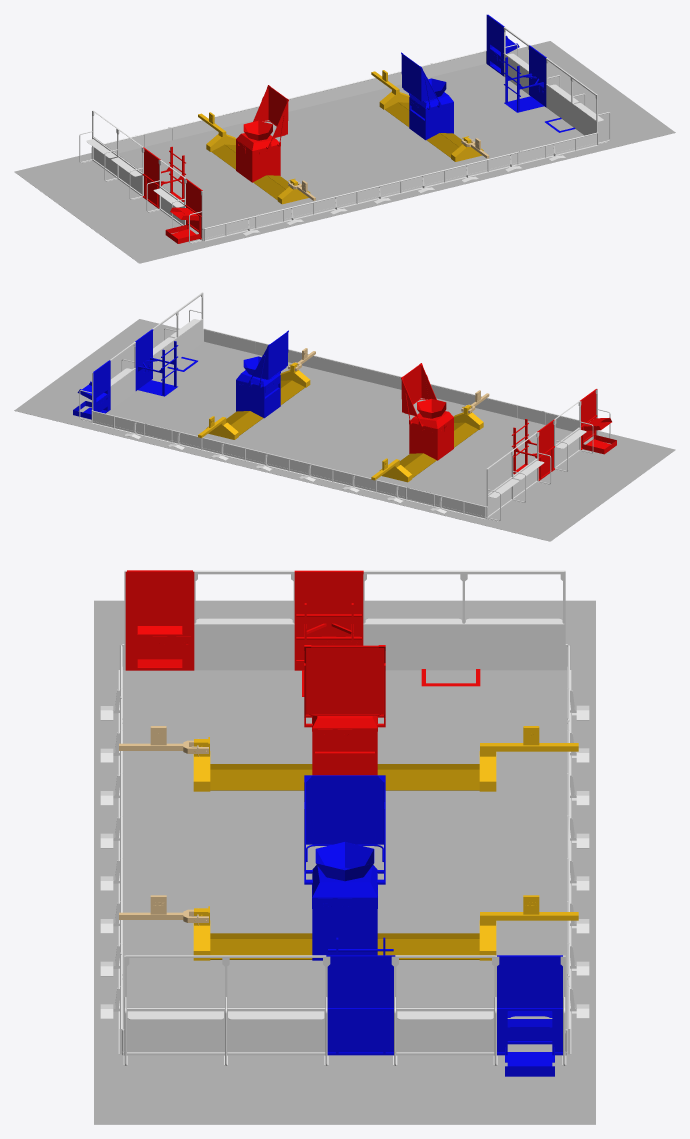
The model's file is field-2026.fbx.
3 renders of one model, top to bottom at view 1: azimuth 30°, elevation 25°; view 2: azimuth 150°, elevation 25°; view 3: azimuth 270°, elevation 25°, orthographic. The views are drawn at different scales.
Parts seen in each view (by area): view 1: BLOCK CAD: CARPET, BLOCK CAD: SIDE WALL, AUDIENCE, BLOCK CAD: SIDE WALL, SCORING TABLE, BLOCK CAD: HUB, RED, BLOCK CAD: HUB, BLUE, BLOCK CAD: ALLIANCE STATION, BLUE 1 & 2, BLOCK CAD: ALLIANCE STATION, RED 1 & 2, BLOCK CAD: TOWER, BLUE, BLOCK CAD: OUTPOST, RED, BLOCK CAD: TOWER, RED, BLOCK CAD: OUTPOST, BLUE, BLOCK CAD: ALLIANCE STATION, RED 3 (+8 smaller); view 2: BLOCK CAD: CARPET, BLOCK CAD: SIDE WALL, SCORING TABLE, BLOCK CAD: SIDE WALL, AUDIENCE, BLOCK CAD: HUB, RED, BLOCK CAD: HUB, BLUE, BLOCK CAD: ALLIANCE STATION, RED 1 & 2, BLOCK CAD: ALLIANCE STATION, BLUE 1 & 2, BLOCK CAD: TOWER, BLUE, BLOCK CAD: OUTPOST, RED, BLOCK CAD: TOWER, RED, BLOCK CAD: OUTPOST, BLUE, BLOCK CAD: ALLIANCE STATION, RED 3 (+7 smaller); view 3: BLOCK CAD: CARPET, BLOCK CAD: HUB, BLUE, BLOCK CAD: ALLIANCE STATION, RED 1 & 2, BLOCK CAD: ALLIANCE STATION, BLUE 1 & 2, BLOCK CAD: HUB, RED, BLOCK CAD: OUTPOST, BLUE, BLOCK CAD: OUTPOST, RED, BLOCK CAD: TOWER, BLUE, BLOCK CAD: ALLIANCE STATION, RED 3, BLOCK CAD: ALLIANCE STATION, BLUE 3, BLOCK CAD: TOWER, RED, BLOCK CAD: SIDE WALL, AUDIENCE (+10 smaller).
Part boxes in pixels (x1,y1,x2,y2): BLOCK CAD: CARPET: [14, 41, 675, 263]; BLOCK CAD: SIDE WALL, AUDIENCE: [202, 132, 598, 241]; BLOCK CAD: SIDE WALL, SCORING TABLE: [91, 50, 486, 157]; BLOCK CAD: HUB, RED: [236, 85, 288, 182]; BLOCK CAD: HUB, BLUE: [401, 52, 453, 140]; BLOCK CAD: ALLIANCE STATION, BLUE 1 & 2: [546, 58, 610, 144]; BLOCK CAD: ALLIANCE STATION, RED 1 & 2: [79, 110, 144, 199]; BLOCK CAD: TOWER, BLUE: [504, 45, 546, 112]; BLOCK CAD: OUTPOST, RED: [165, 178, 202, 243]; BLOCK CAD: TOWER, RED: [142, 146, 185, 208]; BLOCK CAD: OUTPOST, BLUE: [486, 14, 519, 76]; BLOCK CAD: ALLIANCE STATION, RED 3: [146, 160, 186, 228]; BLOCK CAD: CARPET: [14, 319, 675, 541]; BLOCK CAD: SIDE WALL, SCORING TABLE: [91, 410, 487, 519]; BLOCK CAD: SIDE WALL, AUDIENCE: [203, 328, 598, 436]; BLOCK CAD: HUB, RED: [401, 363, 453, 460]; BLOCK CAD: HUB, BLUE: [236, 330, 288, 418]; BLOCK CAD: ALLIANCE STATION, RED 1 & 2: [486, 432, 551, 521]; BLOCK CAD: ALLIANCE STATION, BLUE 1 & 2: [151, 292, 203, 378]; BLOCK CAD: TOWER, BLUE: [135, 329, 178, 396]; BLOCK CAD: OUTPOST, RED: [580, 389, 616, 454]; BLOCK CAD: TOWER, RED: [511, 419, 554, 480]; BLOCK CAD: OUTPOST, BLUE: [73, 360, 110, 419]; BLOCK CAD: ALLIANCE STATION, RED 3: [553, 401, 593, 471]; BLOCK CAD: CARPET: [94, 600, 595, 1124]; BLOCK CAD: HUB, BLUE: [304, 775, 385, 960]; BLOCK CAD: ALLIANCE STATION, RED 1 & 2: [363, 570, 567, 670]; BLOCK CAD: ALLIANCE STATION, BLUE 1 & 2: [122, 955, 330, 1065]; BLOCK CAD: HUB, RED: [304, 645, 385, 775]; BLOCK CAD: OUTPOST, BLUE: [497, 955, 562, 1076]; BLOCK CAD: OUTPOST, RED: [125, 570, 194, 670]; BLOCK CAD: TOWER, BLUE: [326, 937, 395, 1055]; BLOCK CAD: ALLIANCE STATION, RED 3: [193, 570, 294, 670]; BLOCK CAD: ALLIANCE STATION, BLUE 3: [391, 955, 499, 1065]; BLOCK CAD: TOWER, RED: [294, 570, 363, 696]; BLOCK CAD: SIDE WALL, AUDIENCE: [100, 645, 124, 1054].
Bounding box in the file's own units: 22.56 × 3.06 × 9.14.
